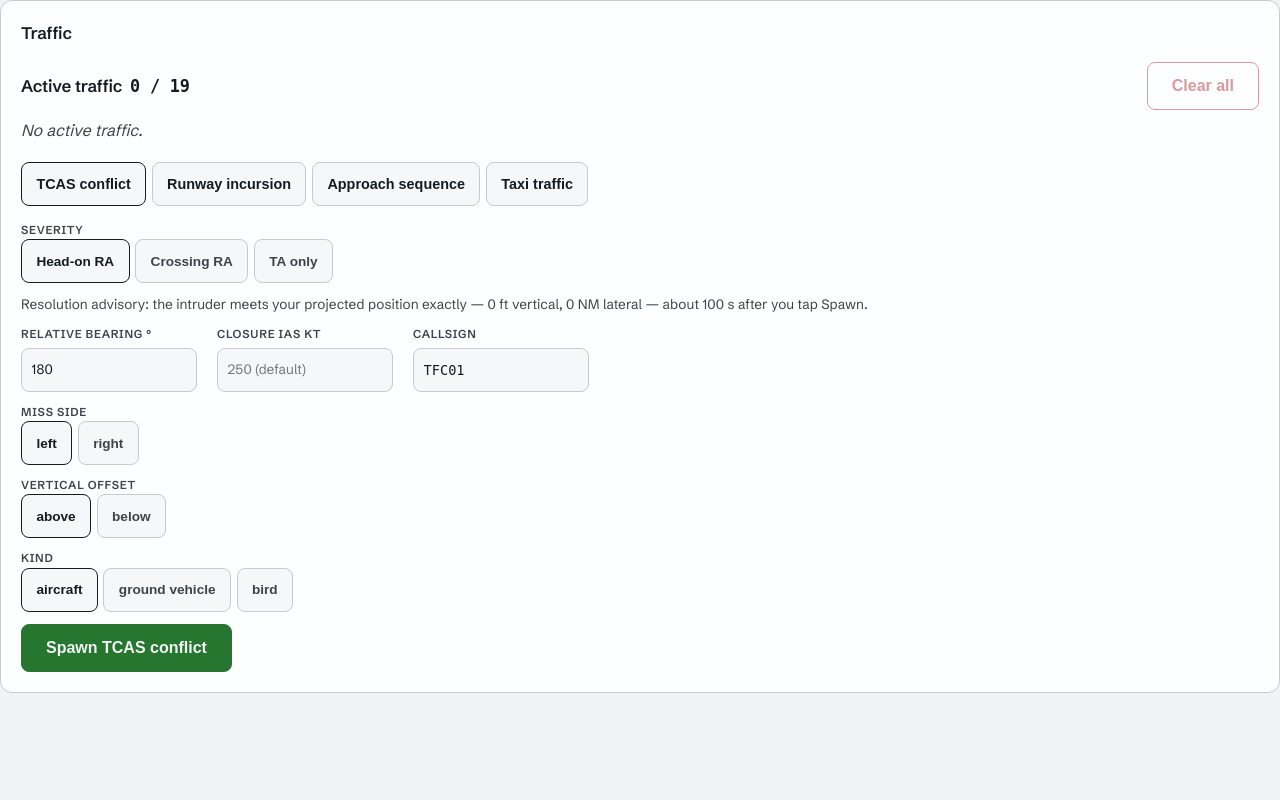
Test: TrafficPanel › surfaces the server’s own sentence when a spawn is refused at capacity
Click the button "Spawn TCAS conflict" at (126,648), box [21,624,232,672]
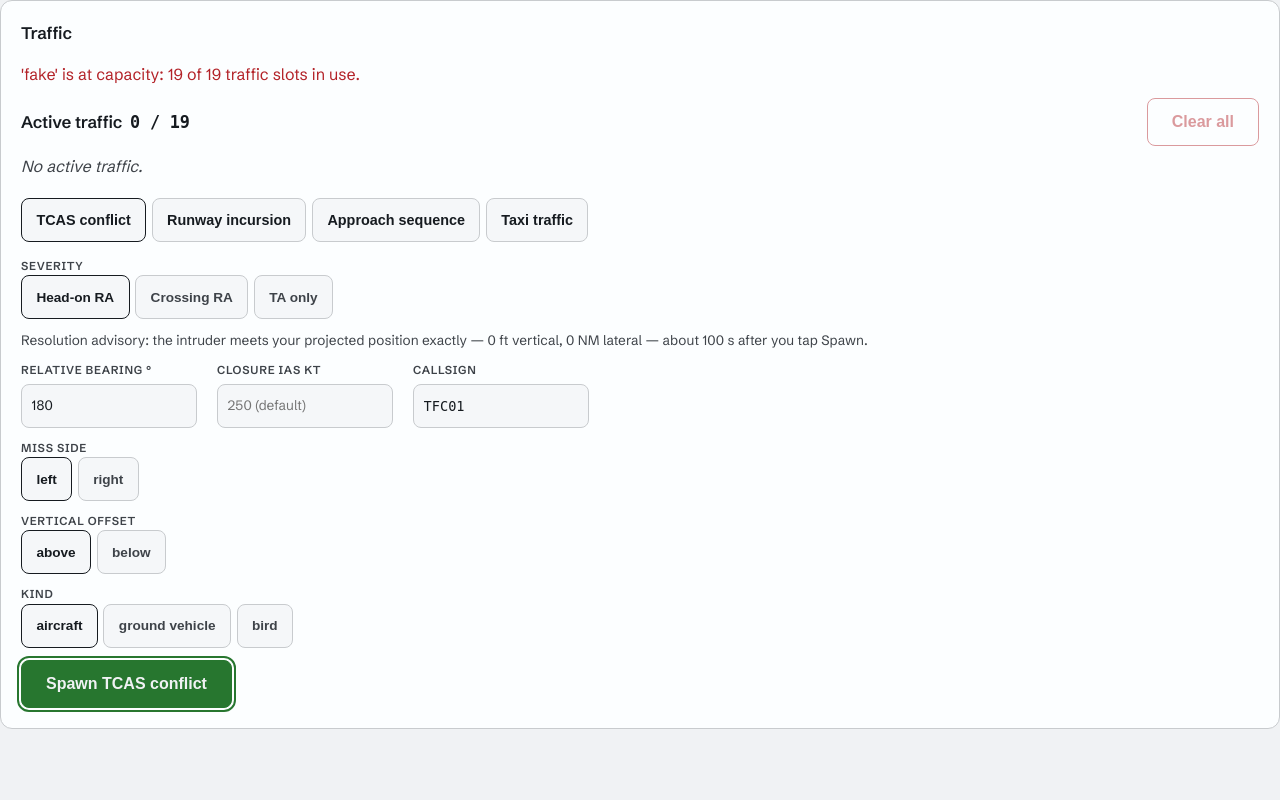
Check: the message reads "'fake' is at capacity: 19 of 19 traffic slots in use.", box [21,64,360,84]
